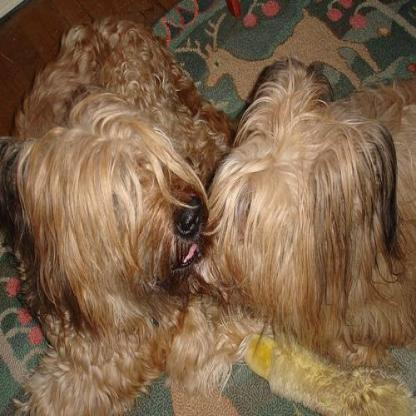briard: (6, 20, 414, 413)
